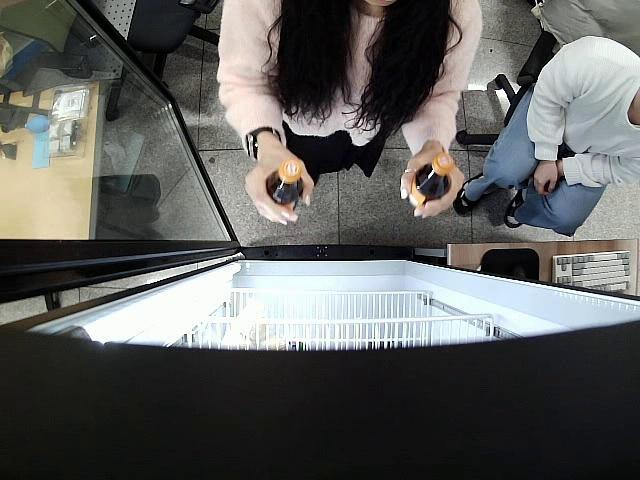17_vita500: (408, 155, 456, 214), (264, 158, 302, 214)
